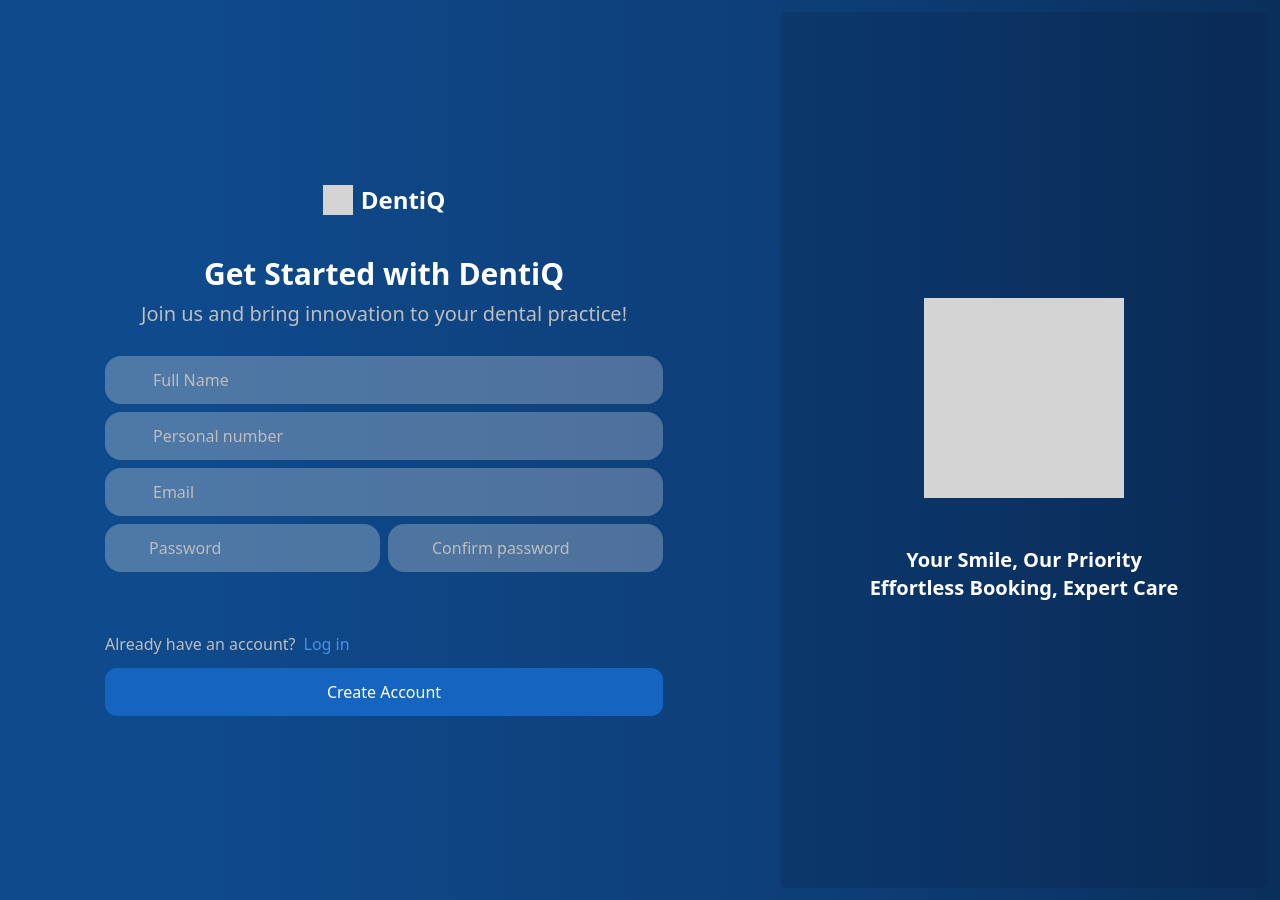
Scenario: SignupView.vue › shows error when passwords do not match
This screenshot has width=1280, height=900.
// Set different passwords
Type "password123" into the password field with placeholder "Password" at (242, 548), box x1=105 y1=524 x2=380 y2=572
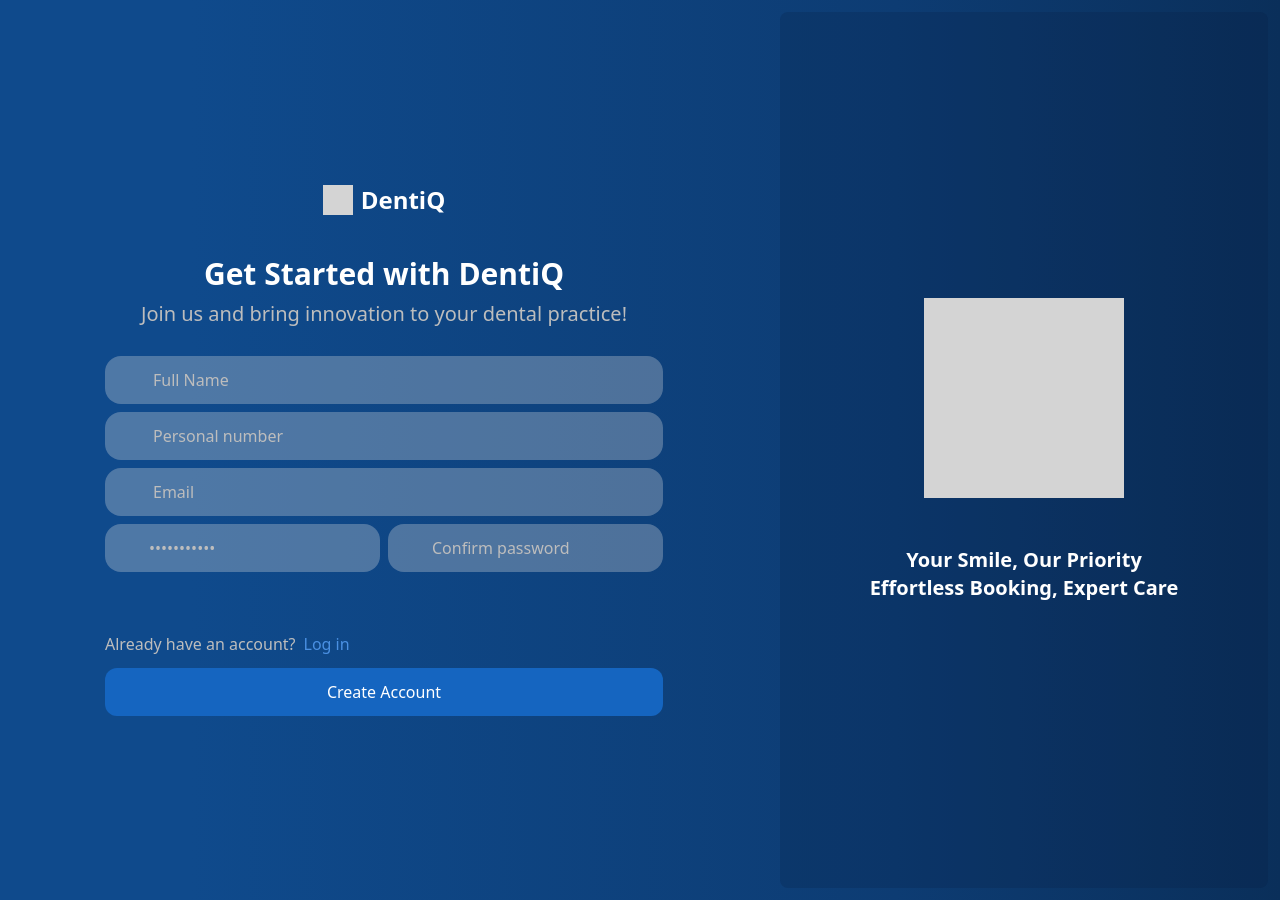
Type "password456" into the password field with placeholder "Confirm password" at (526, 548), box x1=388 y1=524 x2=663 y2=572
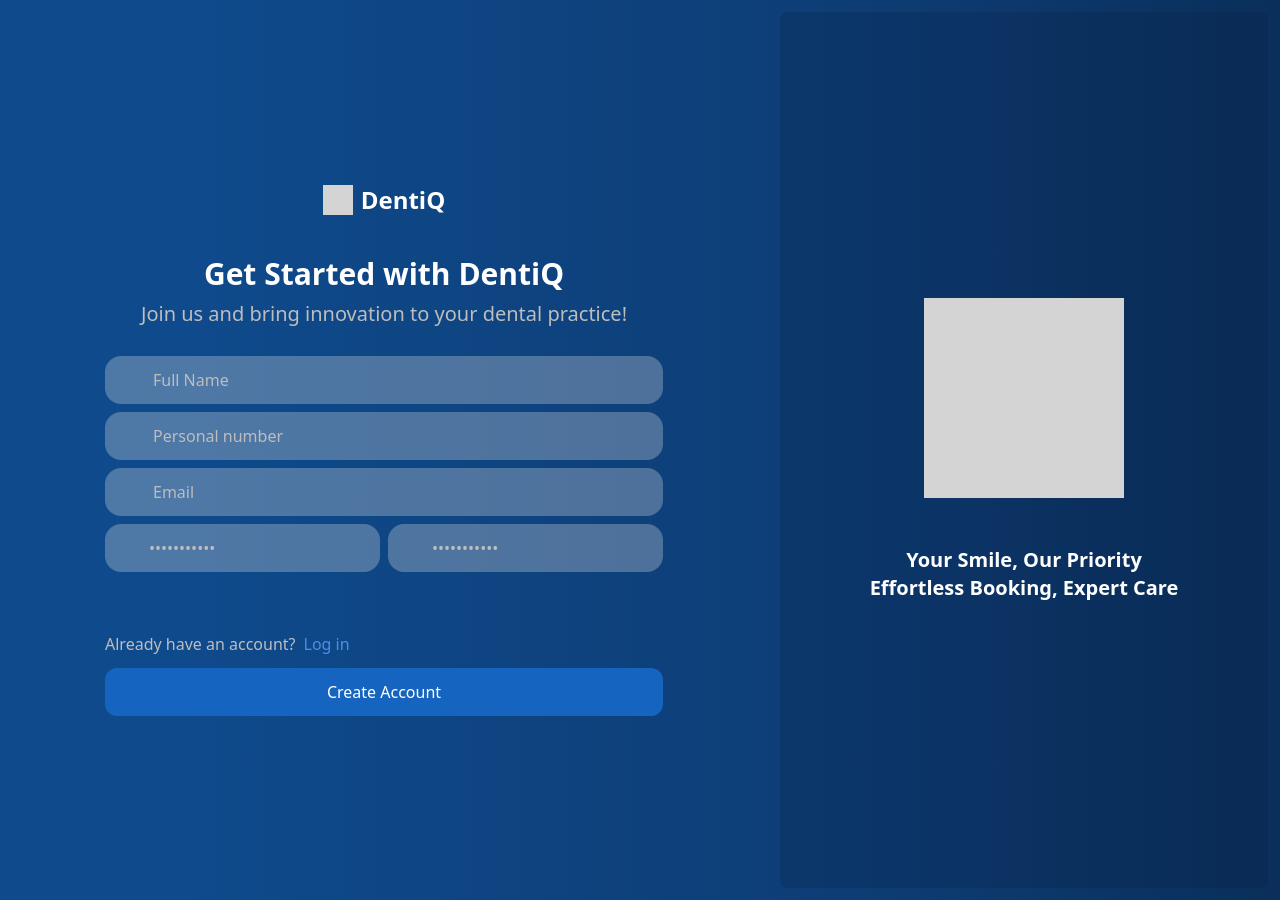
// Trigger form submission
Submit the form, box x1=69 y1=356 x2=699 y2=604
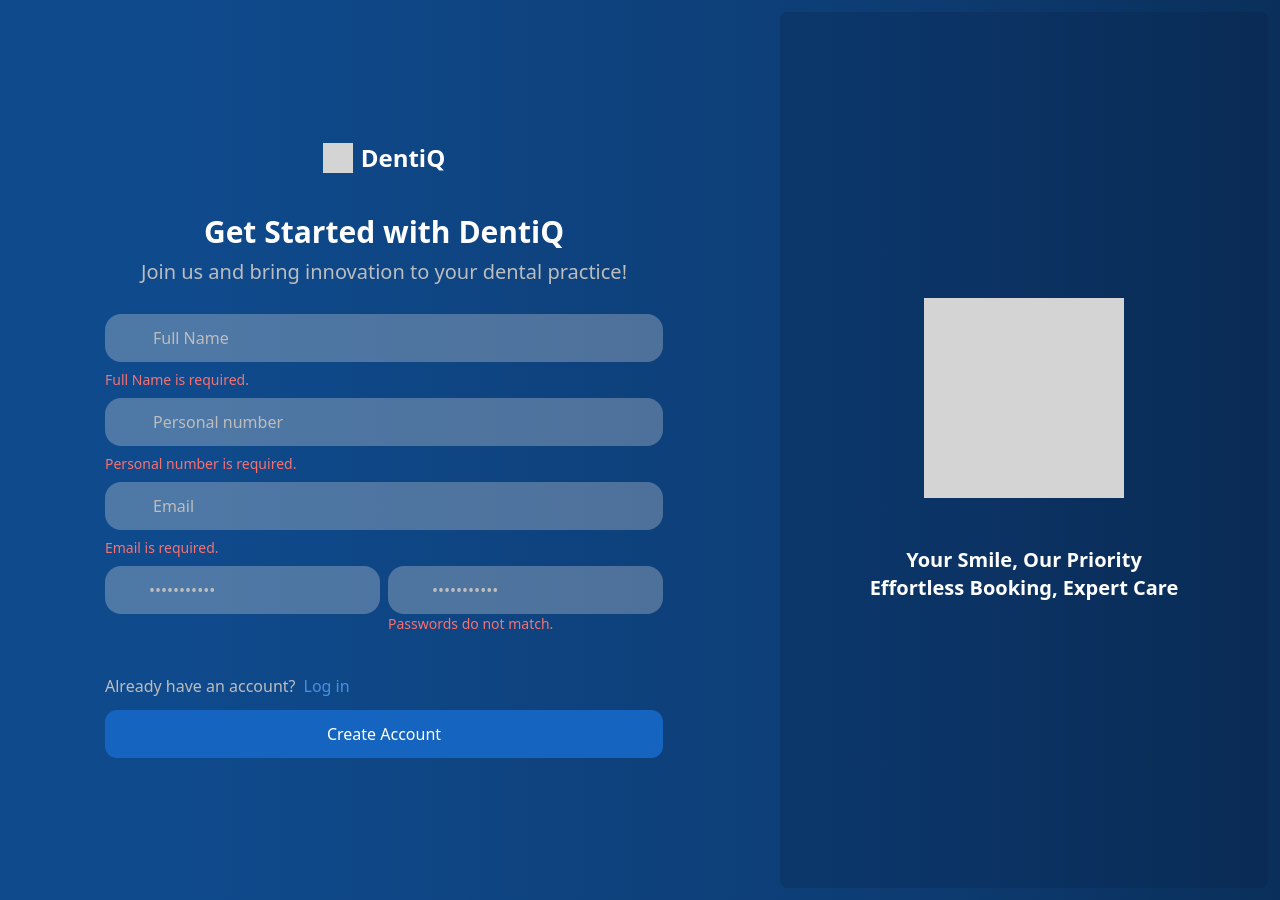
Expected: the text "Passwords do not match." is shown, x1=388 y1=614 x2=553 y2=633
